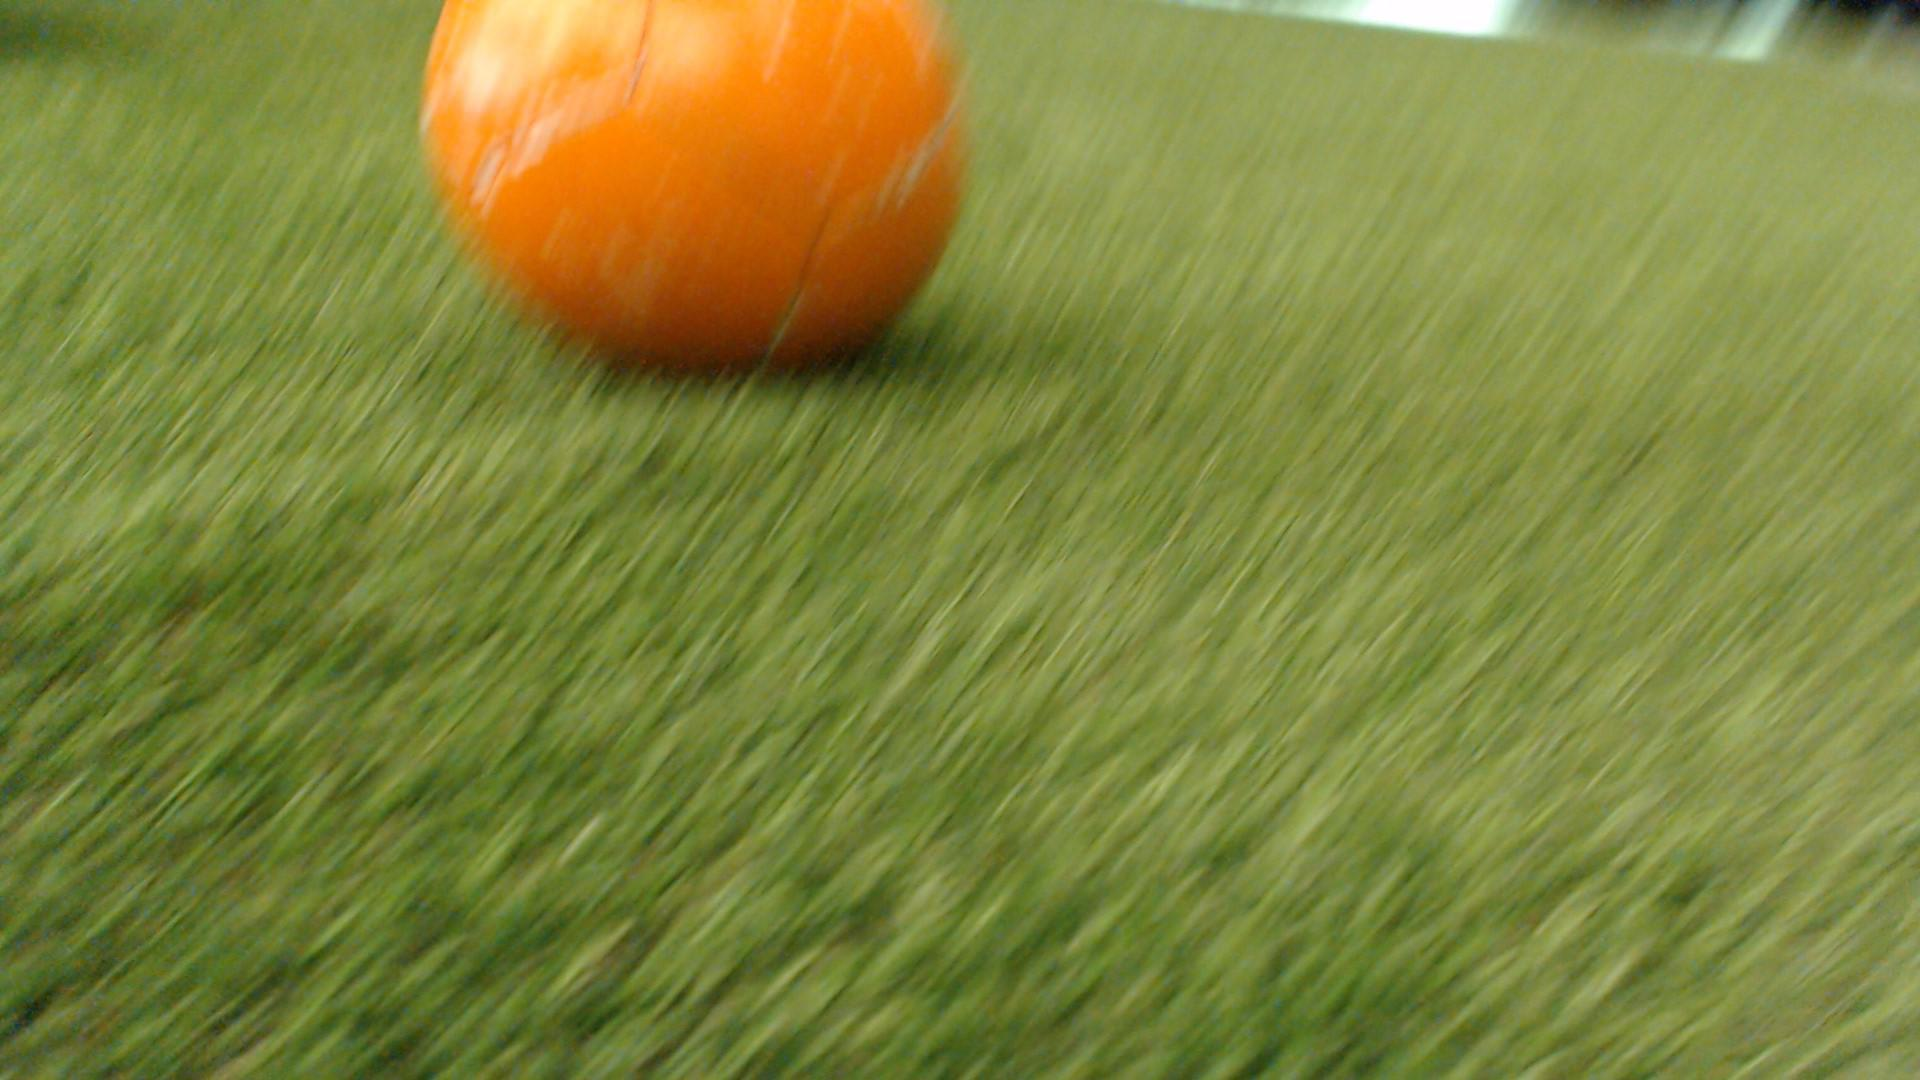bola: (392, 0, 1011, 402)
